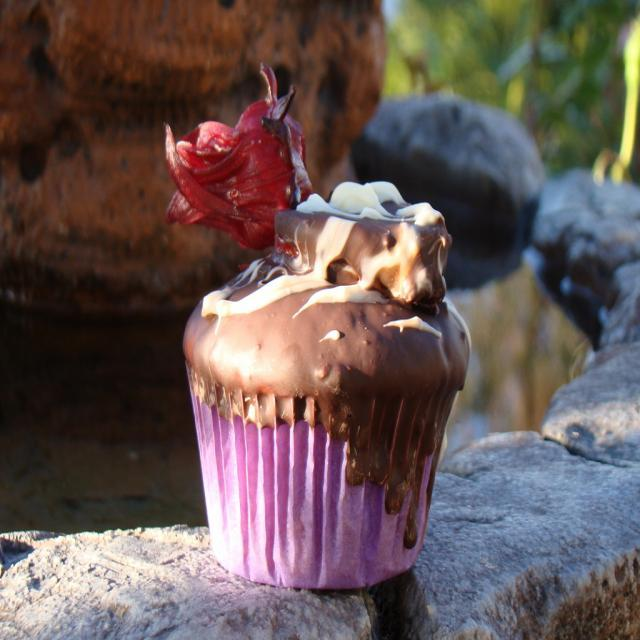Muffin: (161, 61, 474, 596)
